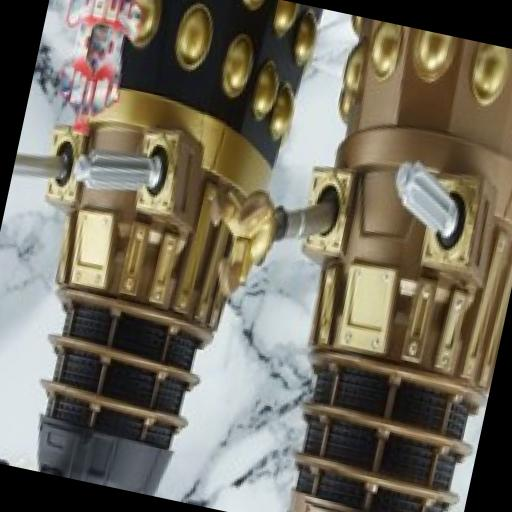dalek: (147, 0, 512, 512), (0, 0, 326, 510)
